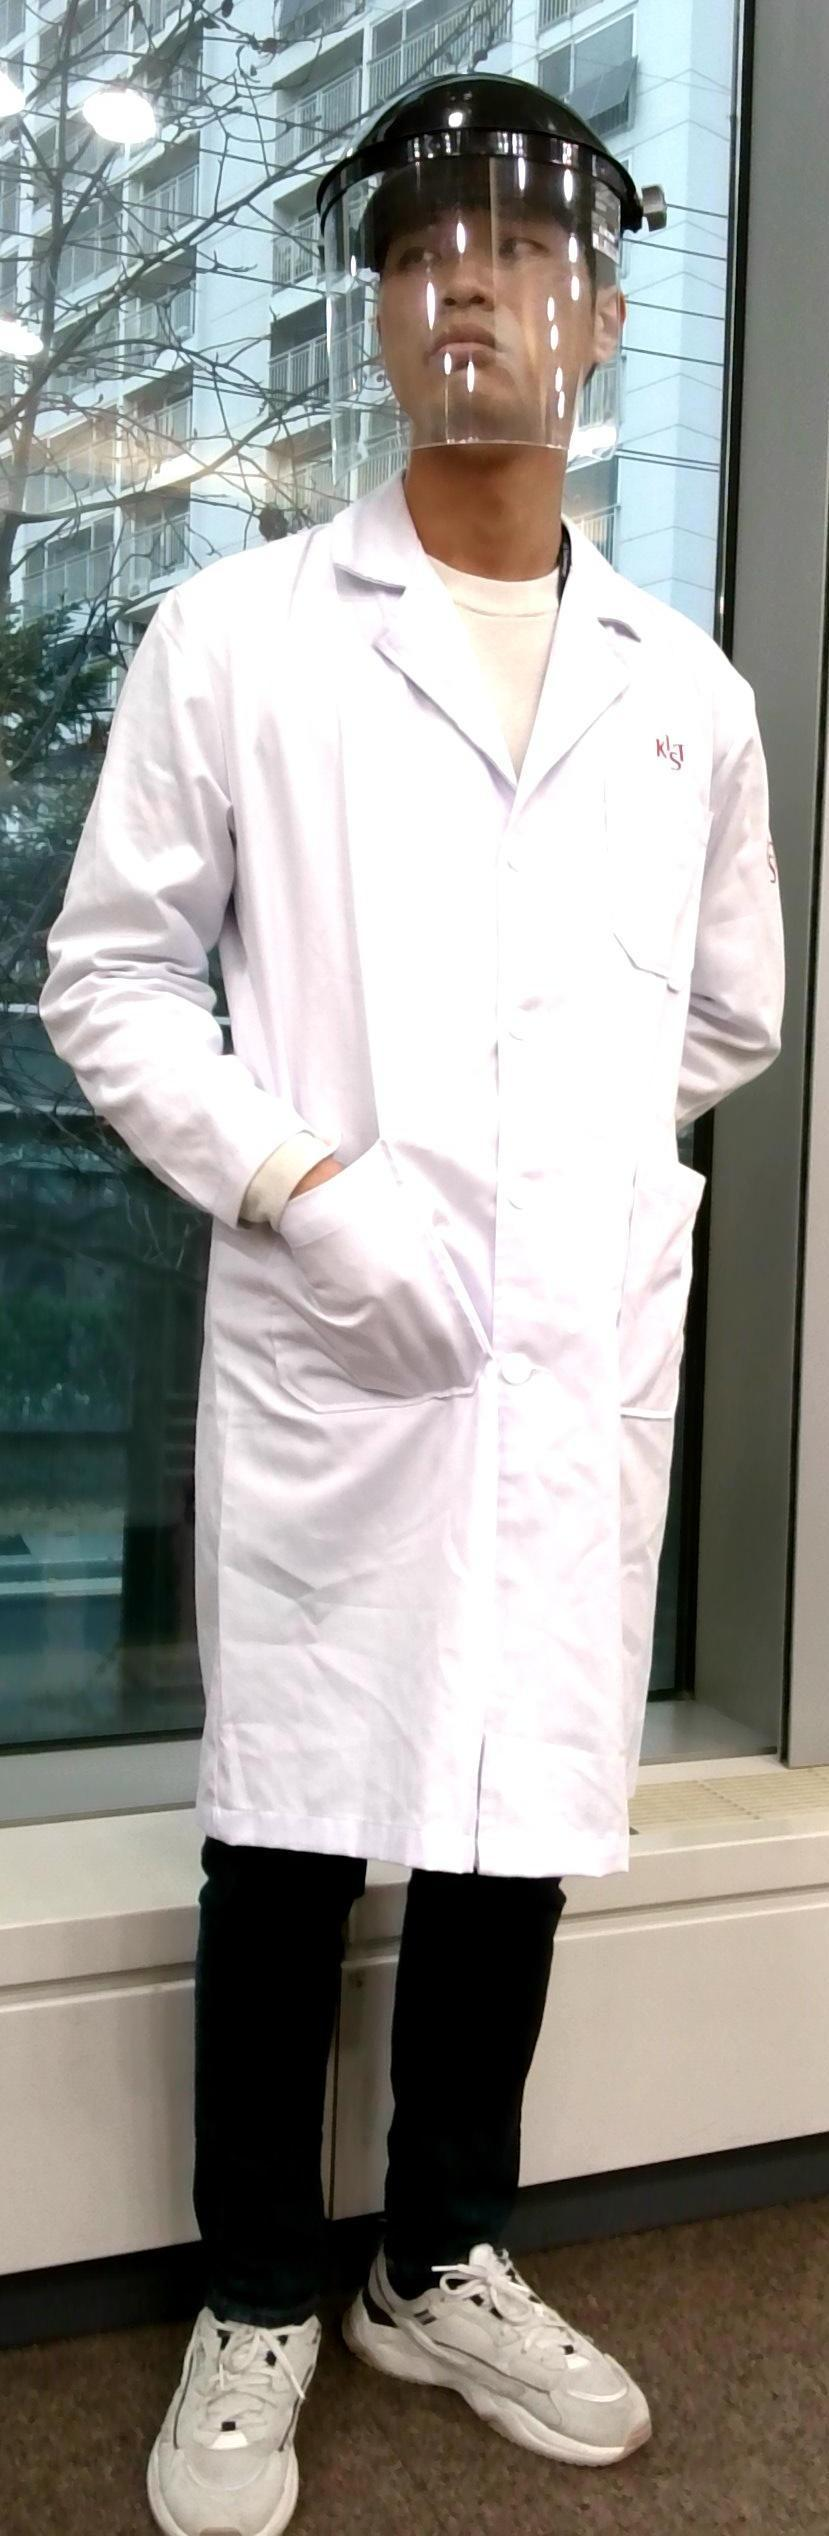lab_coat: (81, 530, 721, 1842)
